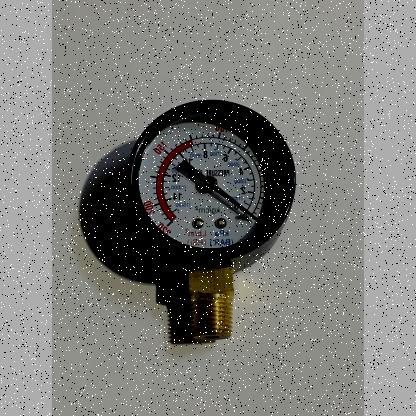needle: (213, 185, 258, 220)
